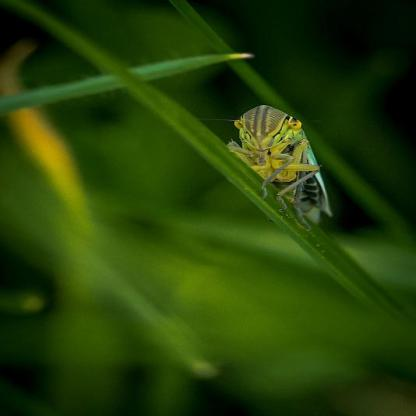Green-Leafhopper: (226, 105, 338, 227)
